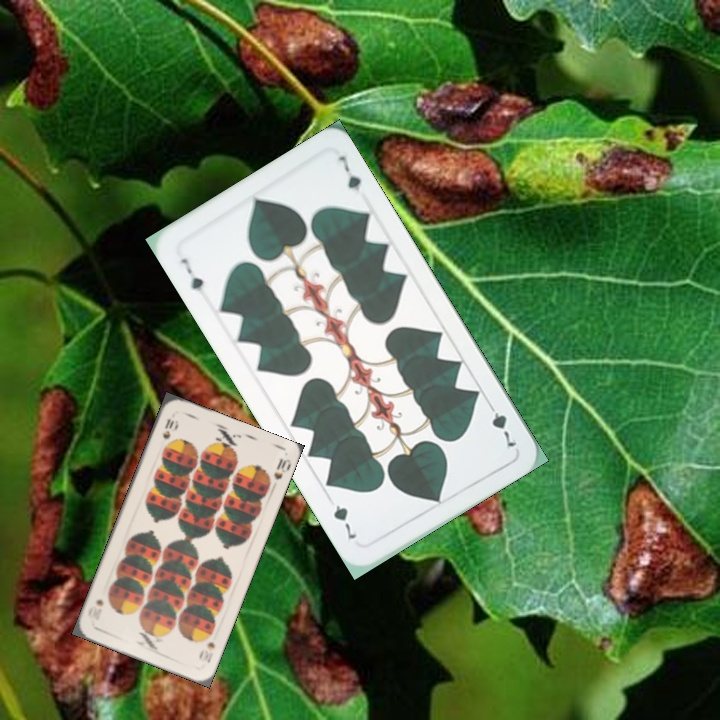G7: (483, 397, 520, 450), (176, 254, 207, 301)
S10: (158, 413, 179, 450), (195, 638, 217, 665)
